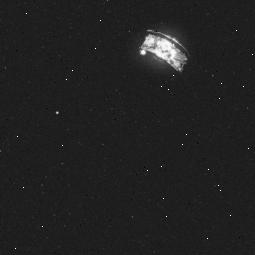lisa_pathfinder: (132, 23, 202, 85)
